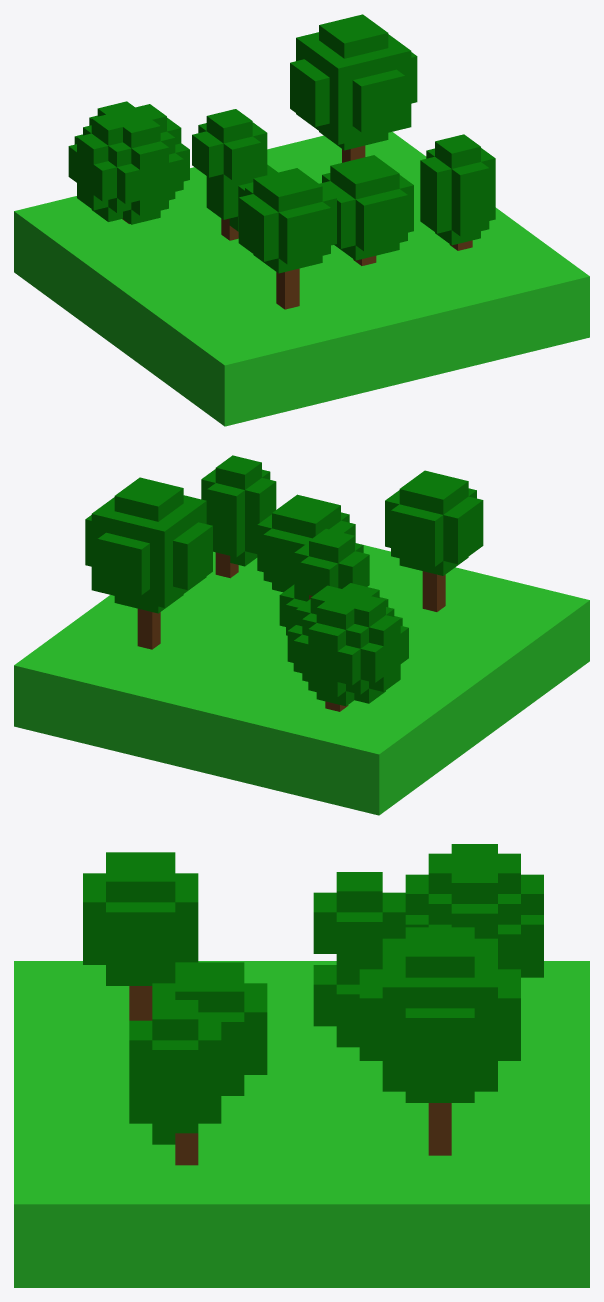
File: forest.obj
3 renders of one model, top to bottom at view 1: azimuth 30°, elevation 25°; view 2: azimuth 150°, elevation 25°; view 3: azimuth 270°, elevation 25°, orthographic. The views are drawn at different scales.
Bounding box in the file's own units: 2.5 × 1.4 × 2.5.
Materials: 1 (1 with a texture image).
